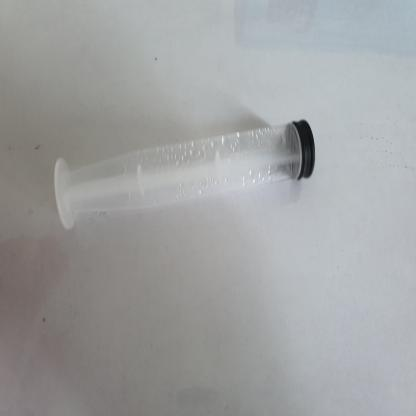wet: (61, 116, 306, 235)
